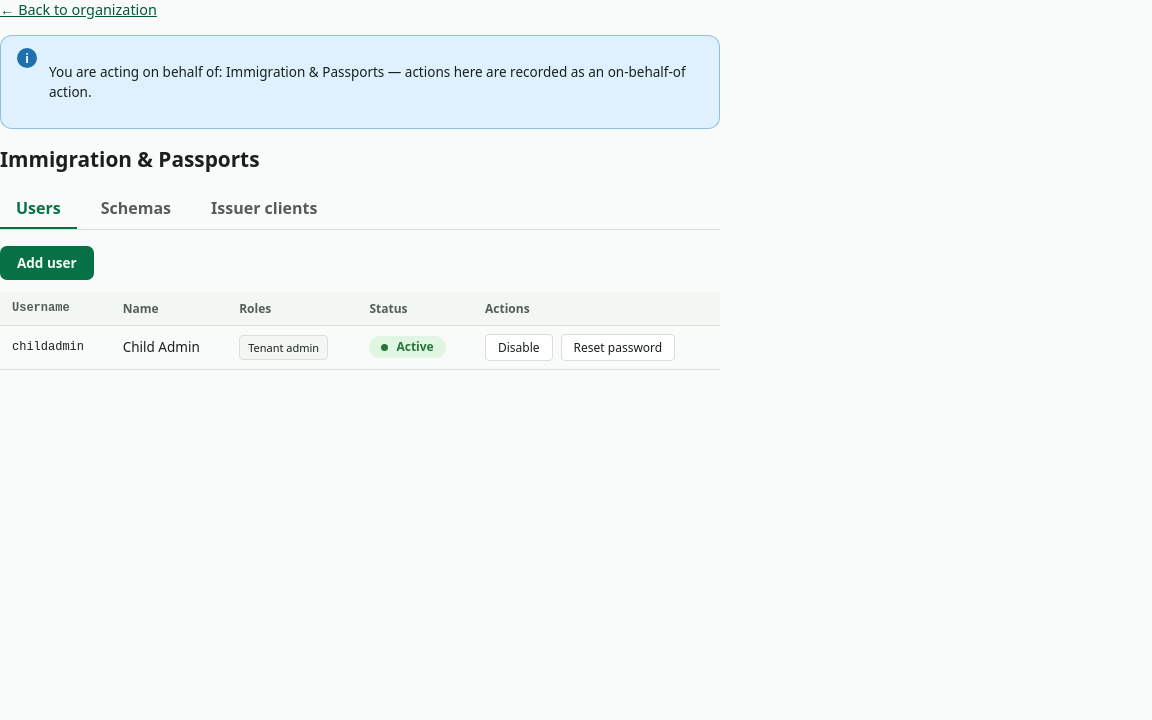
Test: OrgChildPage users tab › resets a user's password on behalf of the child
Click the button "Reset password": [618, 347] box 561,334 -> 675,361
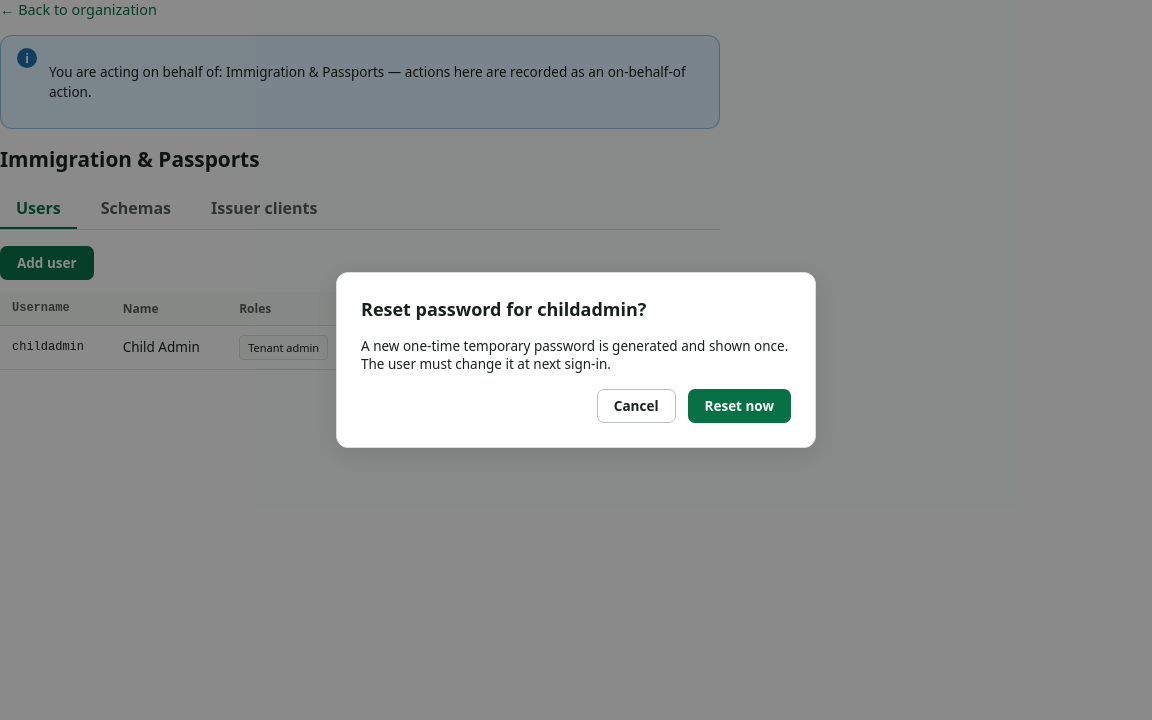
Click the button "Reset now": [739, 406] box 688,389 -> 791,423
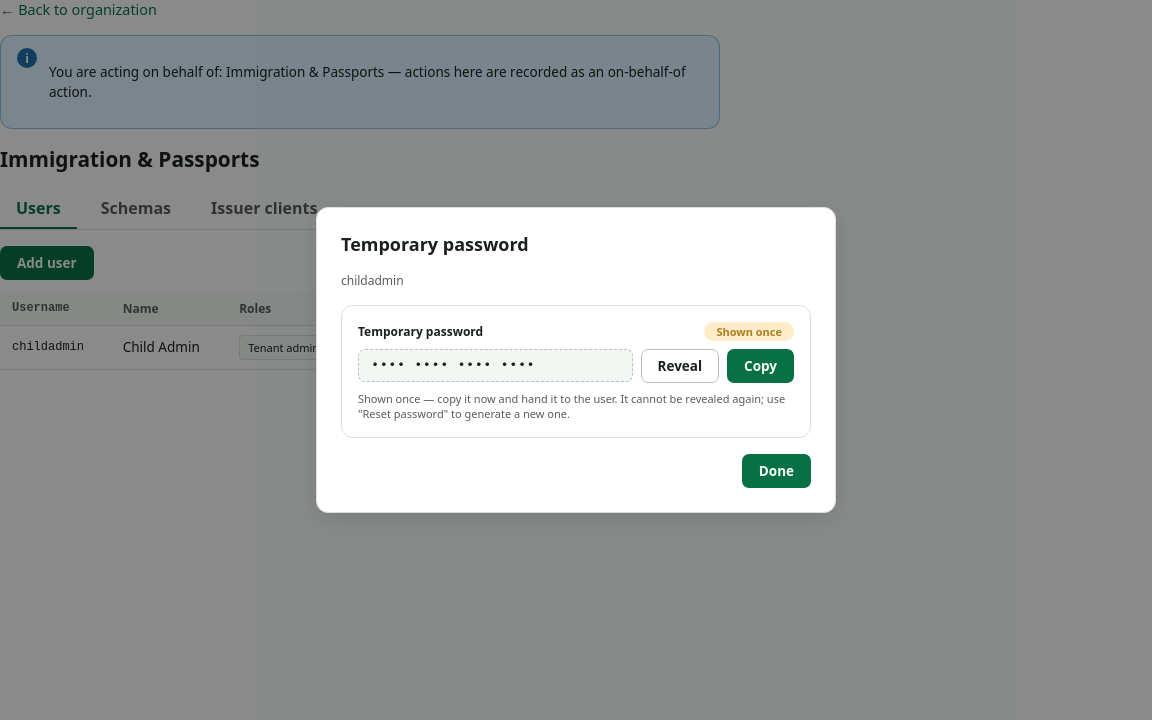
Click the button "Reveal": [680, 366] box 640,349 -> 719,383
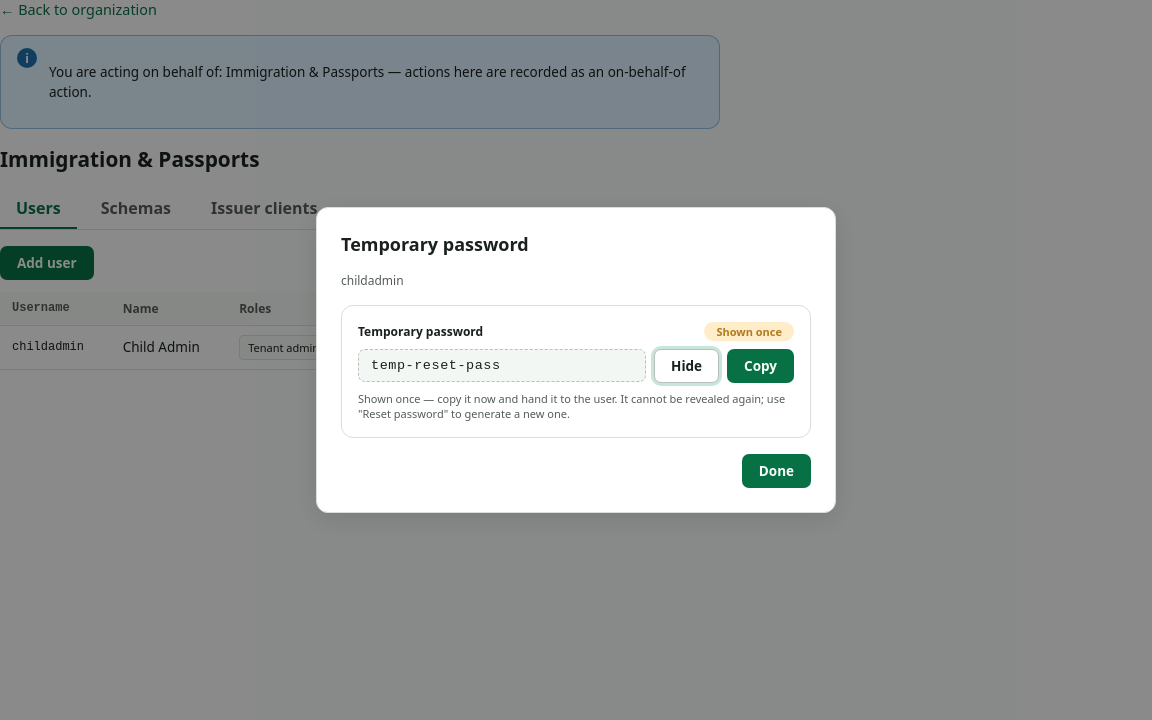
Expected: the text "temp-reset-pass" is shown, 358,349 -> 646,382
